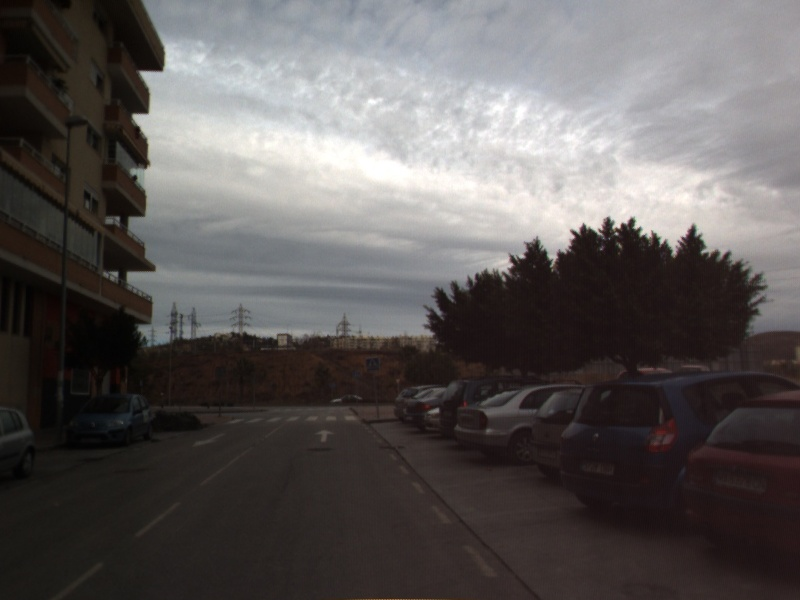STRAIGHT: (312, 427, 337, 444)
